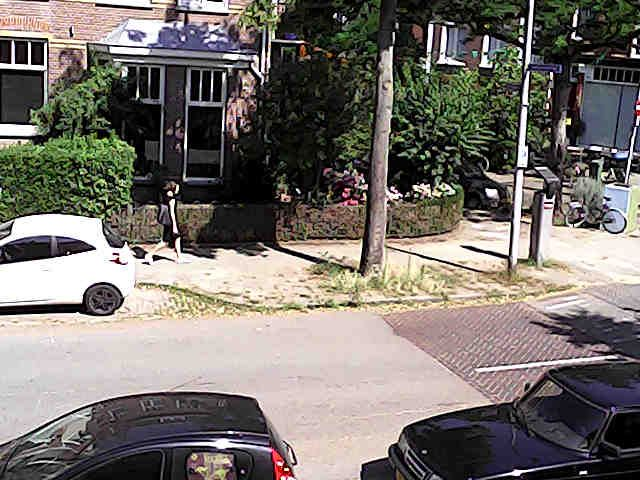male: (144, 181, 184, 263)
suv: (389, 361, 640, 480), (0, 392, 296, 479), (0, 214, 134, 314)
